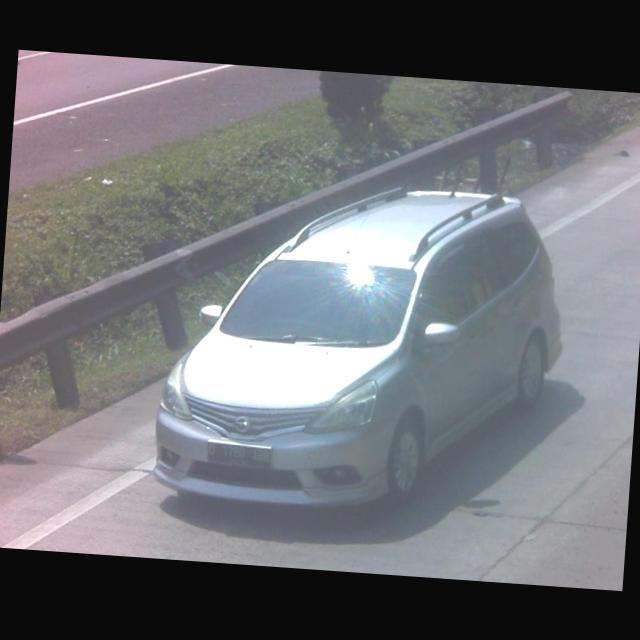plate: (204, 438, 273, 471)
